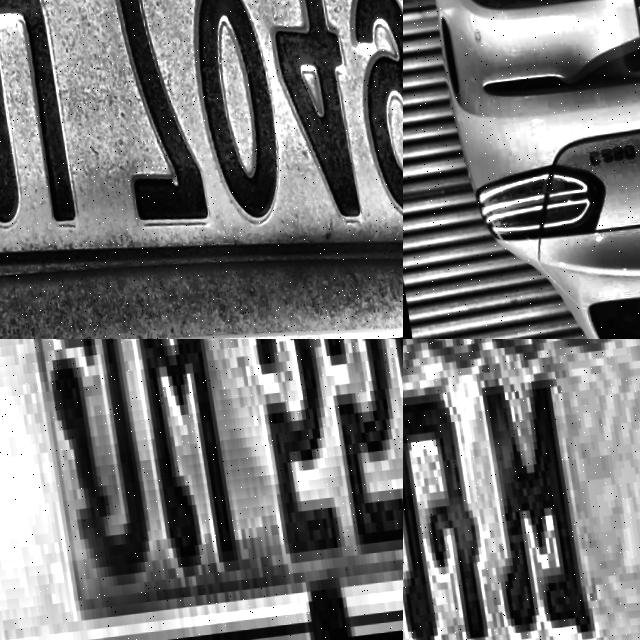license-plate: (0, 0, 403, 333), (0, 339, 403, 640), (403, 339, 640, 640)
